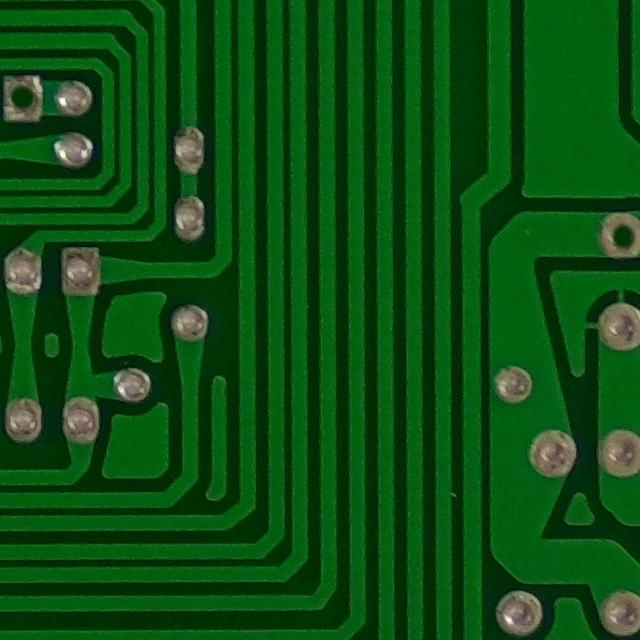missing_hole: (0, 69, 53, 137), (586, 205, 640, 262)
